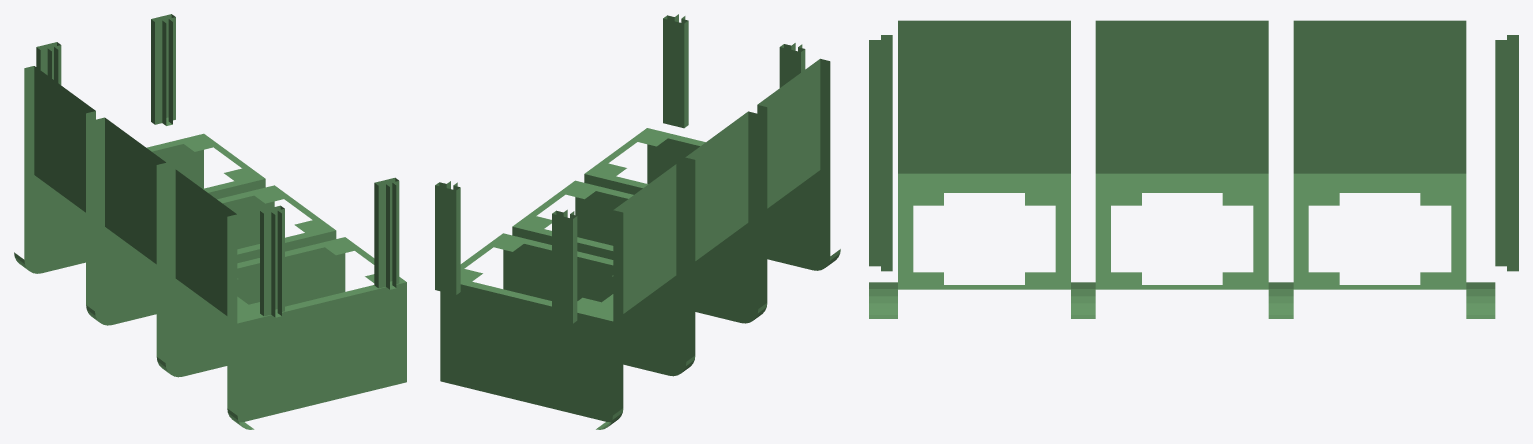
The model's file is zatana_terra_base_vis_85.dae.
3 views of the same model, side by side, from view 1: azimuth 30°, elevation 25°; view 2: azimuth 150°, elevation 25°; view 3: azimuth 270°, elevation 25° (orthographic). The views are drawn at different scales.
Visible parts, largest first — view 1: Node_000002318374B5A0; view 2: Node_000002318374B5A0; view 3: Node_000002318374B5A0.
Boxes of the visible parts, box(x1,y1,x2,y2) form: Node_000002318374B5A0: box(14, 14, 406, 429); Node_000002318374B5A0: box(435, 14, 840, 429); Node_000002318374B5A0: box(869, 20, 1518, 318).
Bounding box in the file's own units: 0.011 × 0.0122 × 0.0245.
